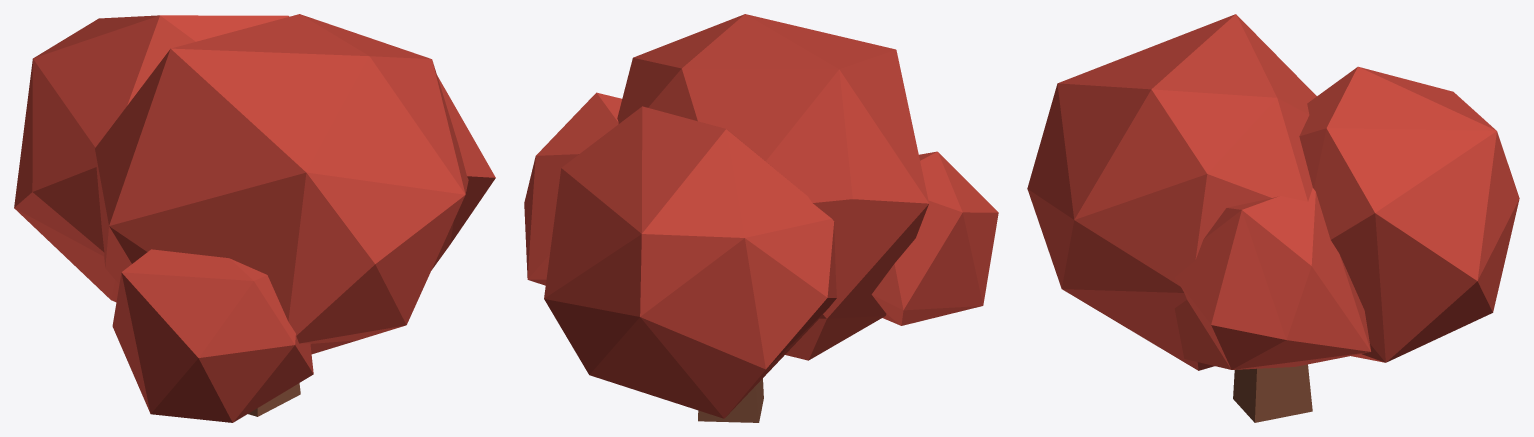
File: Bush_6_summer_red_mat.fbx
3 renders of one model, left to right at view 1: azimuth 30°, elevation 25°; view 2: azimuth 150°, elevation 25°; view 3: azimuth 270°, elevation 25°, orthographic. The views are drawn at different scales.
Visible parts, largest first — view 1: Bush_6_summer_red_mat; view 2: Bush_6_summer_red_mat; view 3: Bush_6_summer_red_mat.
Boxes of the visible parts, <box> form: Bush_6_summer_red_mat: <box>14,14,495,422</box>; Bush_6_summer_red_mat: <box>524,14,998,422</box>; Bush_6_summer_red_mat: <box>1027,14,1519,422</box>.
Bounding box in the file's own units: 30.85 × 27.54 × 35.35.
